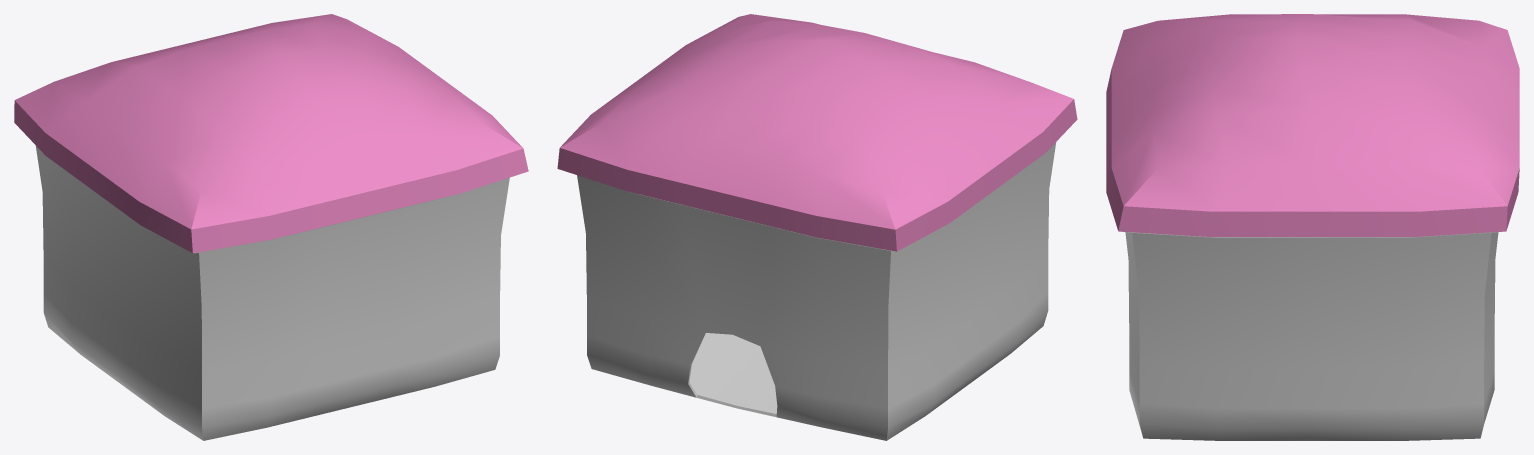
The model's file is tavern.fbx.
3 renders of one model, left to right at view 1: azimuth 30°, elevation 25°; view 2: azimuth 150°, elevation 25°; view 3: azimuth 270°, elevation 25°, orthographic. The views are drawn at different scales.
Visible parts, largest first — view 1: Cube.001; view 2: Cube.001; view 3: Cube.001.
Part boxes in pixels (x1,y1,x2,y2): Cube.001: (14,14,528,440); Cube.001: (557,14,1077,440); Cube.001: (1106,14,1519,440).
Bounding box in the file's own units: 667 × 538 × 617.
